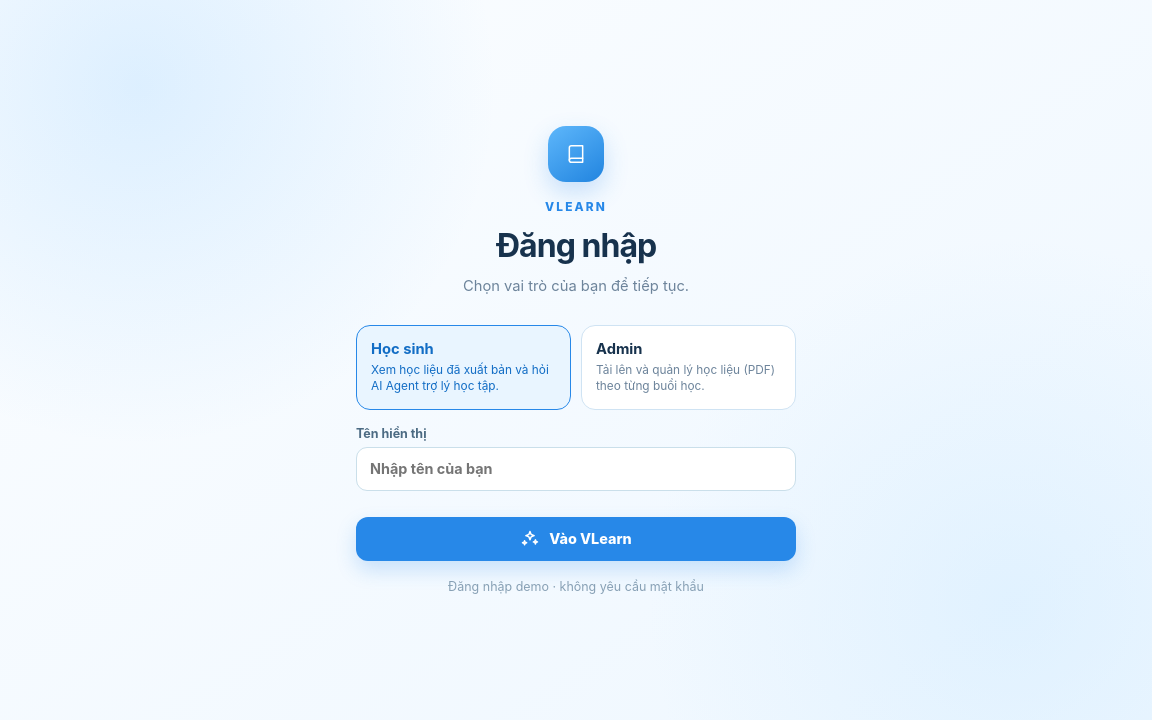
Test: VLearn AI study assistant › logs in as a student and lists the published library
Type "Lan" into the field with placeholder "Nhập tên của bạn" at (576, 469), box [356,447,796,491]
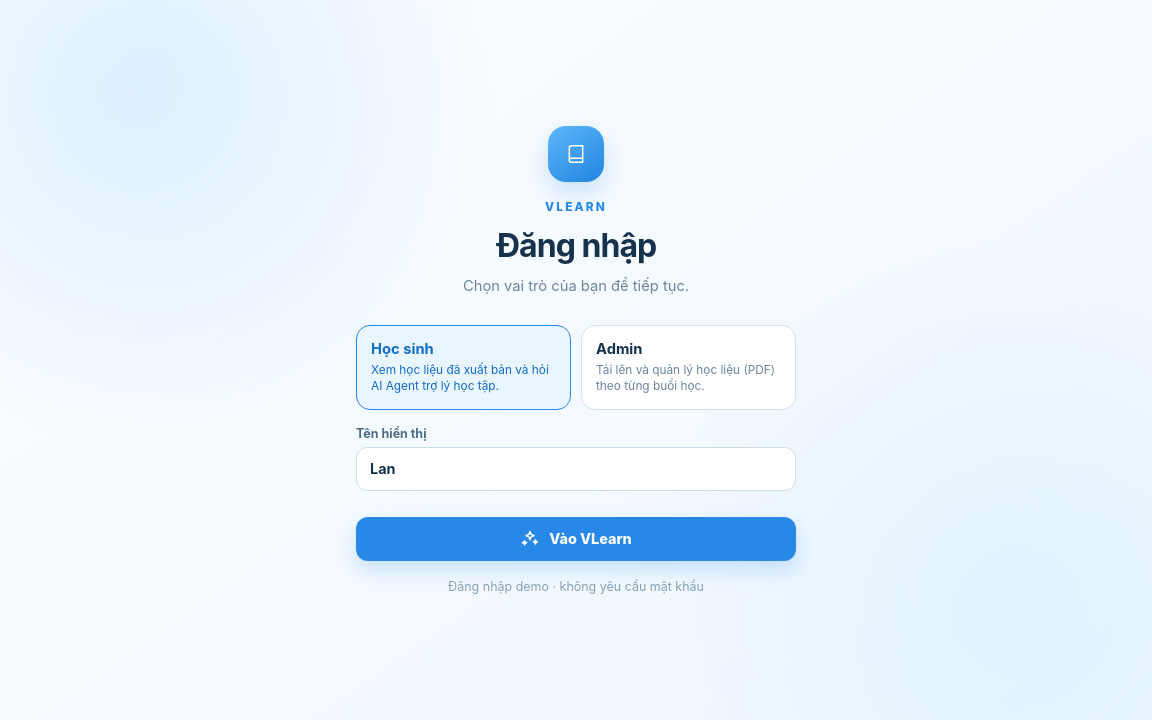
Click the button "Vào VLearn" at (576, 539), box [356,517,796,561]
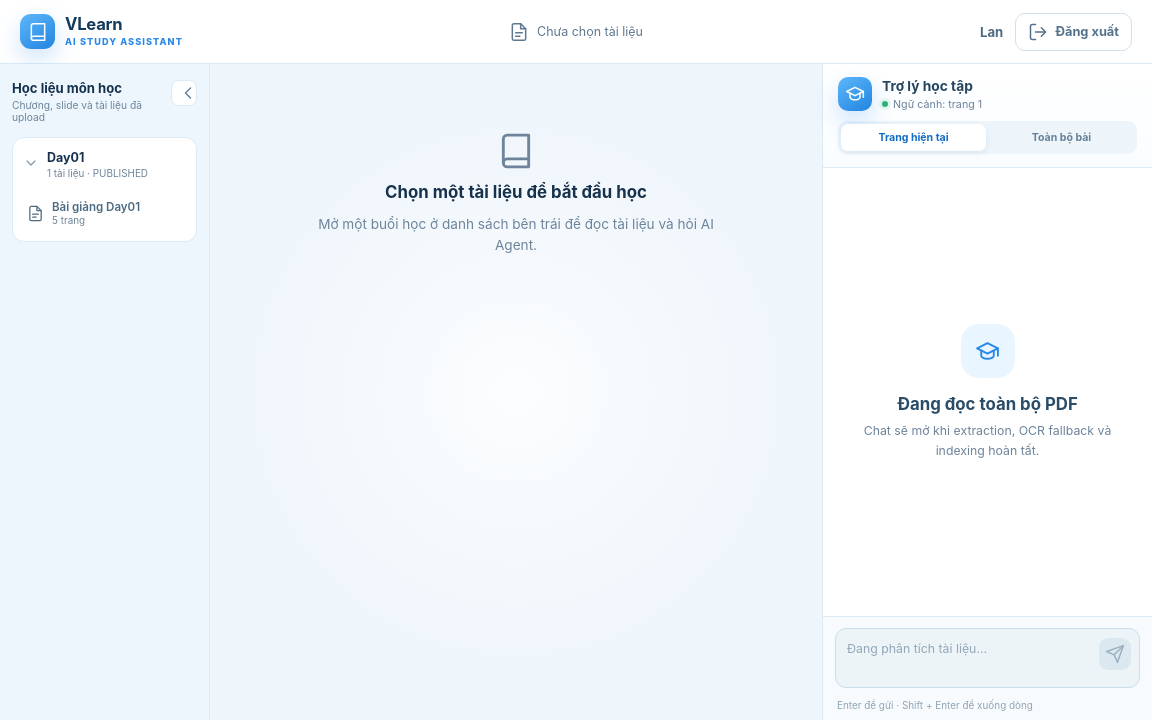
Now the text "Day01" is shown, box [47,150,84,165]
Now the text "1 tài liệu · PUBLISHED" is shown, box [47,167,148,179]
